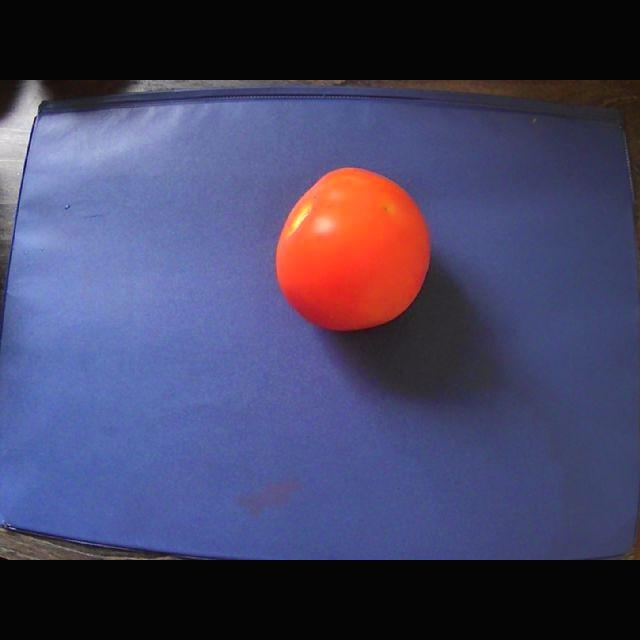tomate: (277, 168, 430, 331)
